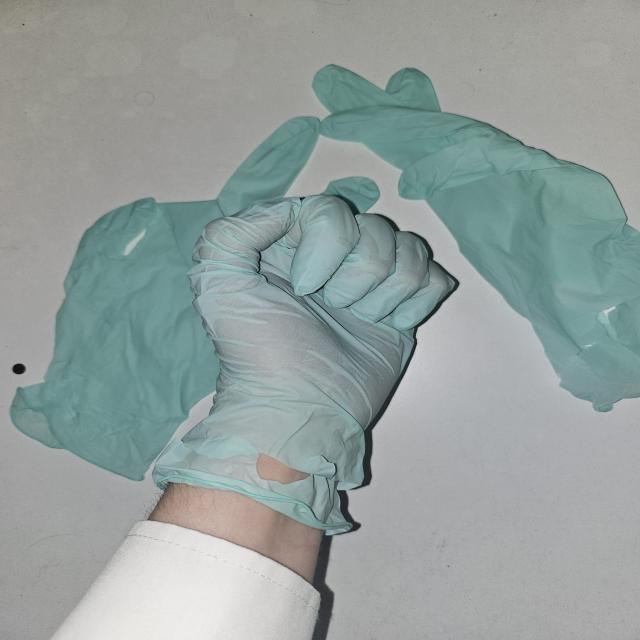gloves_damaged: (151, 194, 462, 538)
